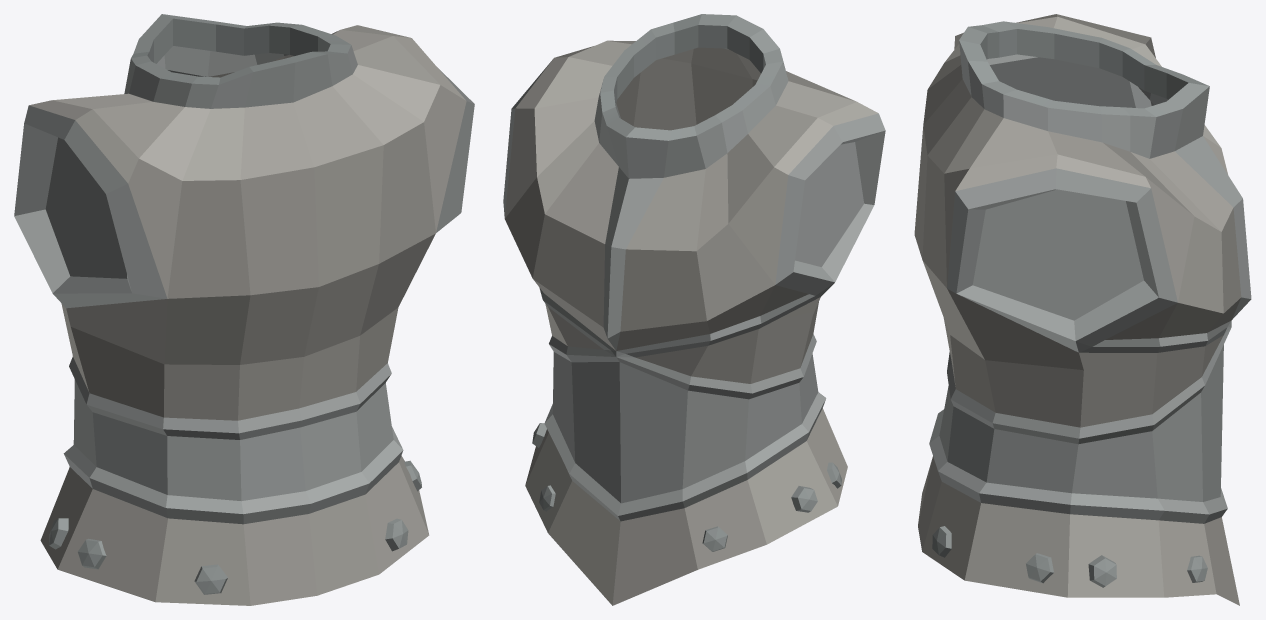
Rendered from armorChestPlateDisplay.fbx.
3 renders of one model, left to right at view 1: azimuth 30°, elevation 25°; view 2: azimuth 150°, elevation 25°; view 3: azimuth 270°, elevation 25°, orthographic. The views are drawn at different scales.
Parts seen in each view (by area): view 1: armorChestPlateDisplay; view 2: armorChestPlateDisplay; view 3: armorChestPlateDisplay.
Part boxes in pixels (x1,y1,x2,y2): armorChestPlateDisplay: (14, 14, 474, 605); armorChestPlateDisplay: (503, 14, 885, 605); armorChestPlateDisplay: (914, 14, 1251, 605).
Bounding box in the file's own units: 0.9327 × 1.45 × 0.7853.
